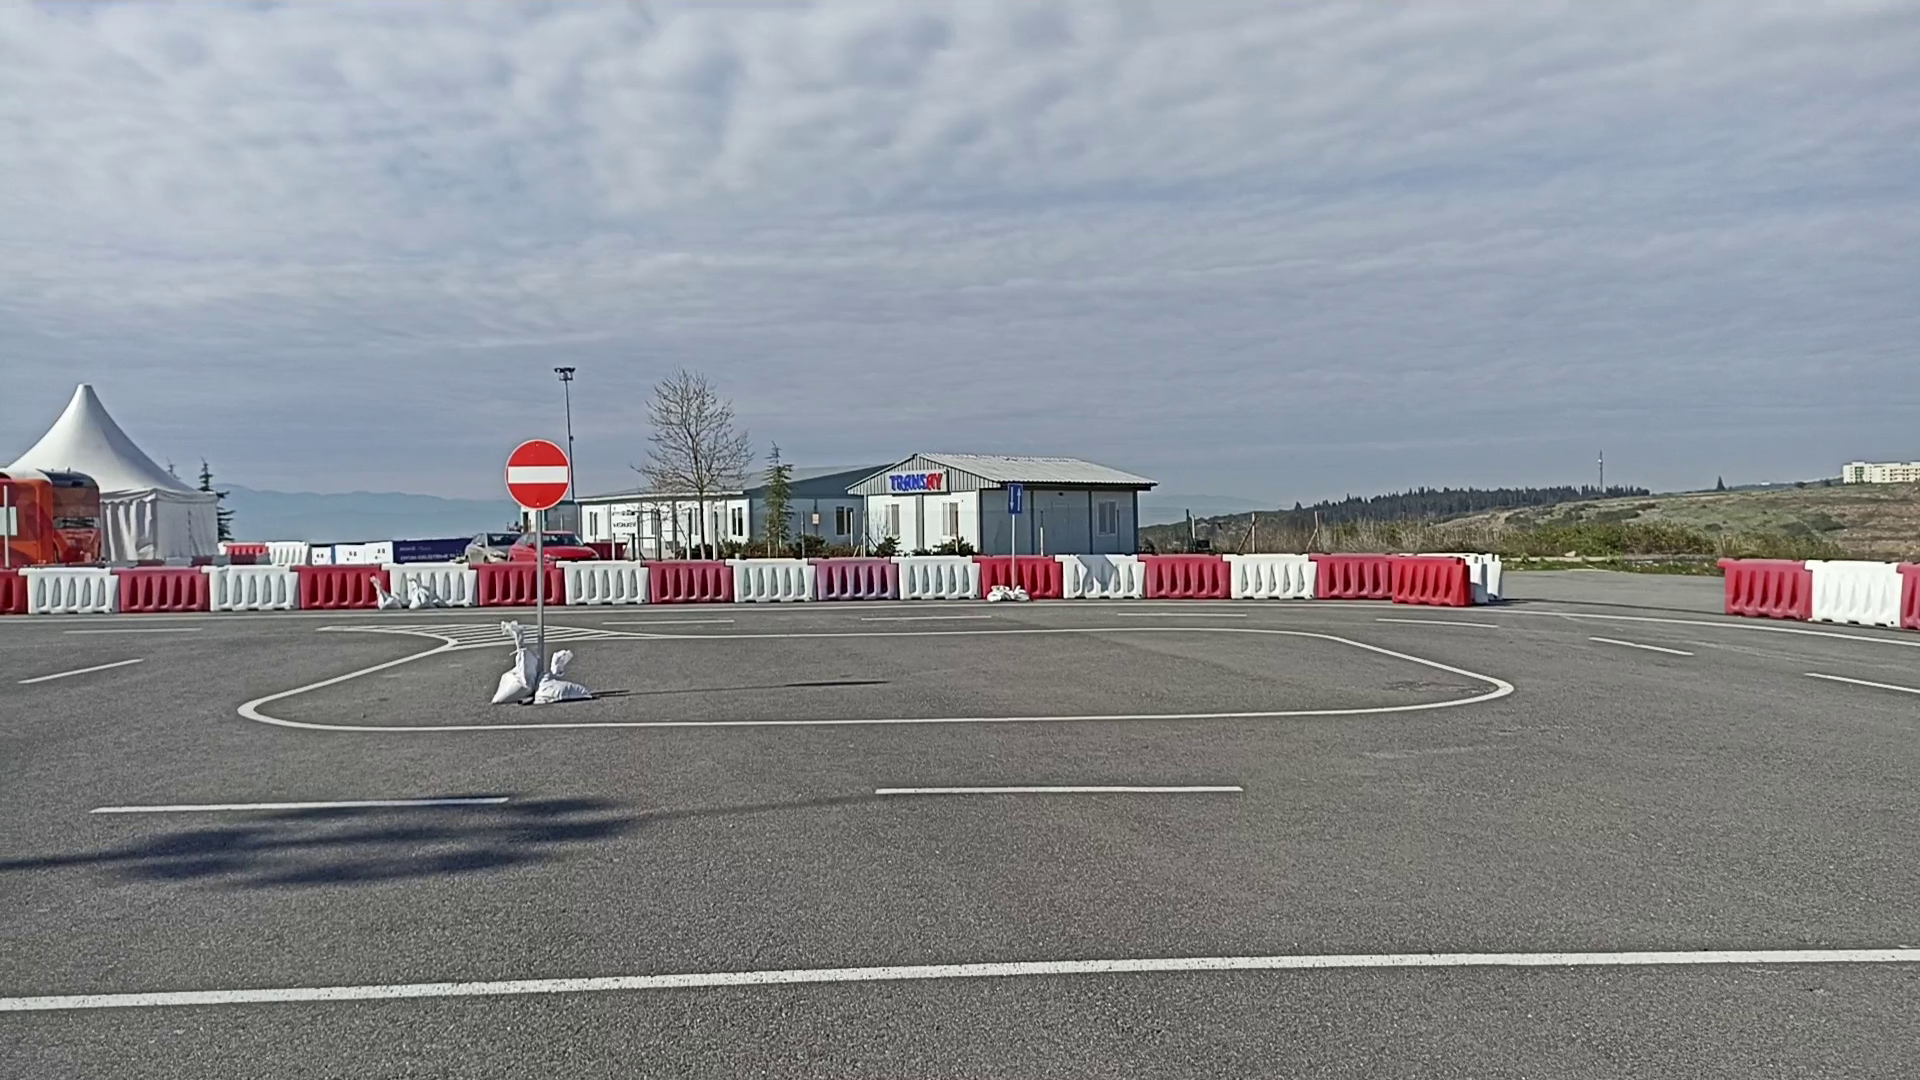noentryway: (502, 438, 572, 512)
